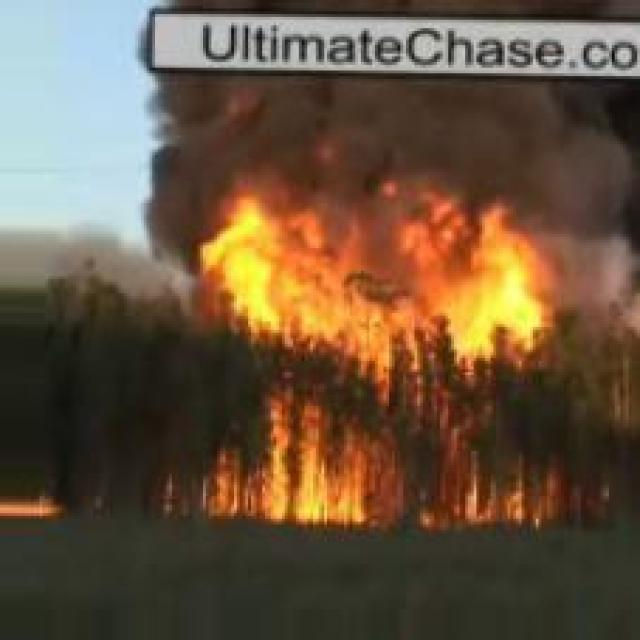fire: (196, 182, 557, 536), (0, 484, 90, 523)
smoke: (197, 74, 601, 175)
